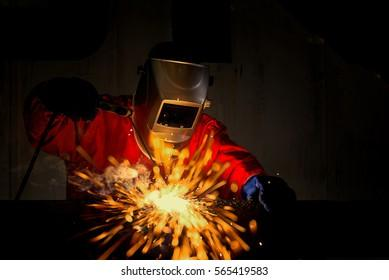gloves: (239, 173, 297, 211)
